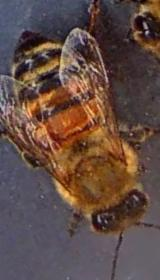varroa_mite: (33, 126, 64, 152)
